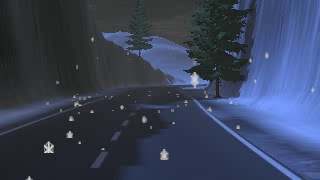Lane: (0, 83, 305, 179)
